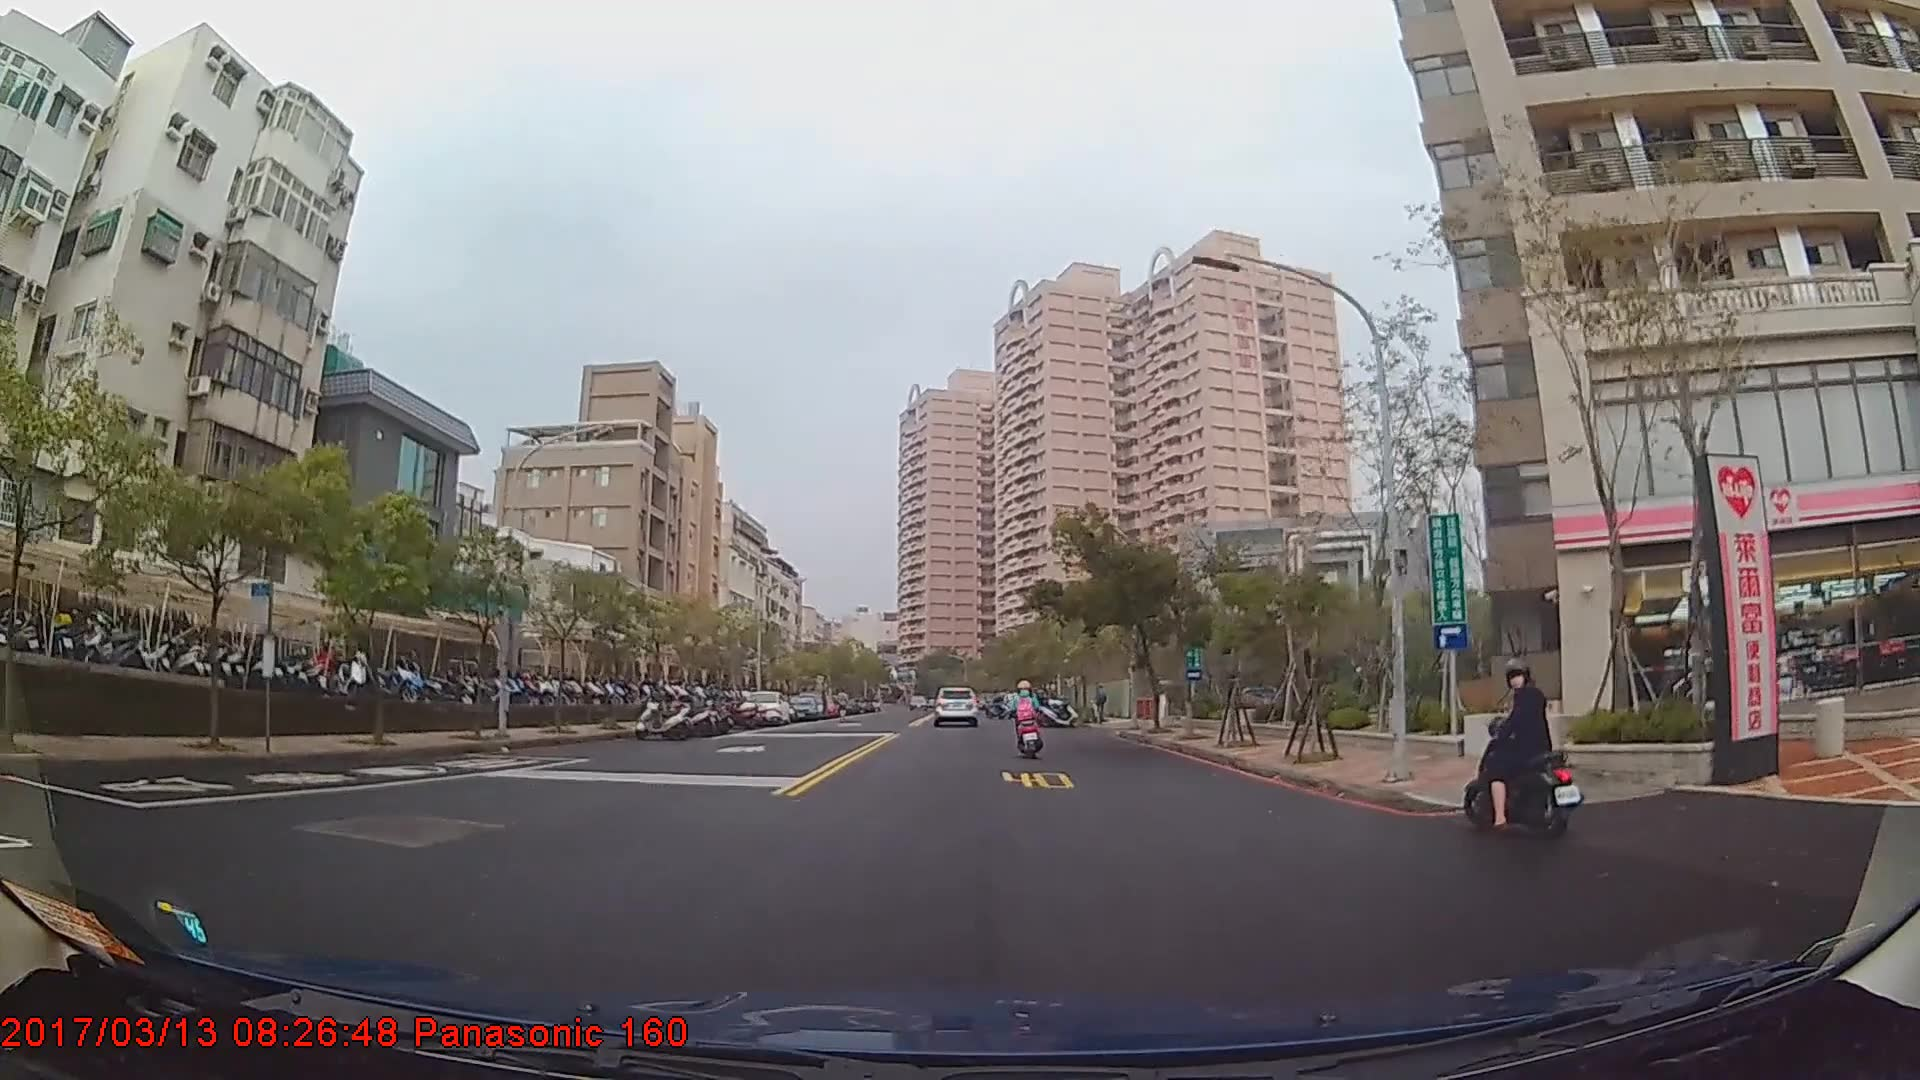rider: (1460, 650, 1594, 835), (1012, 683, 1047, 760)
vehicle: (930, 683, 981, 723), (738, 690, 793, 726), (788, 694, 821, 721)
